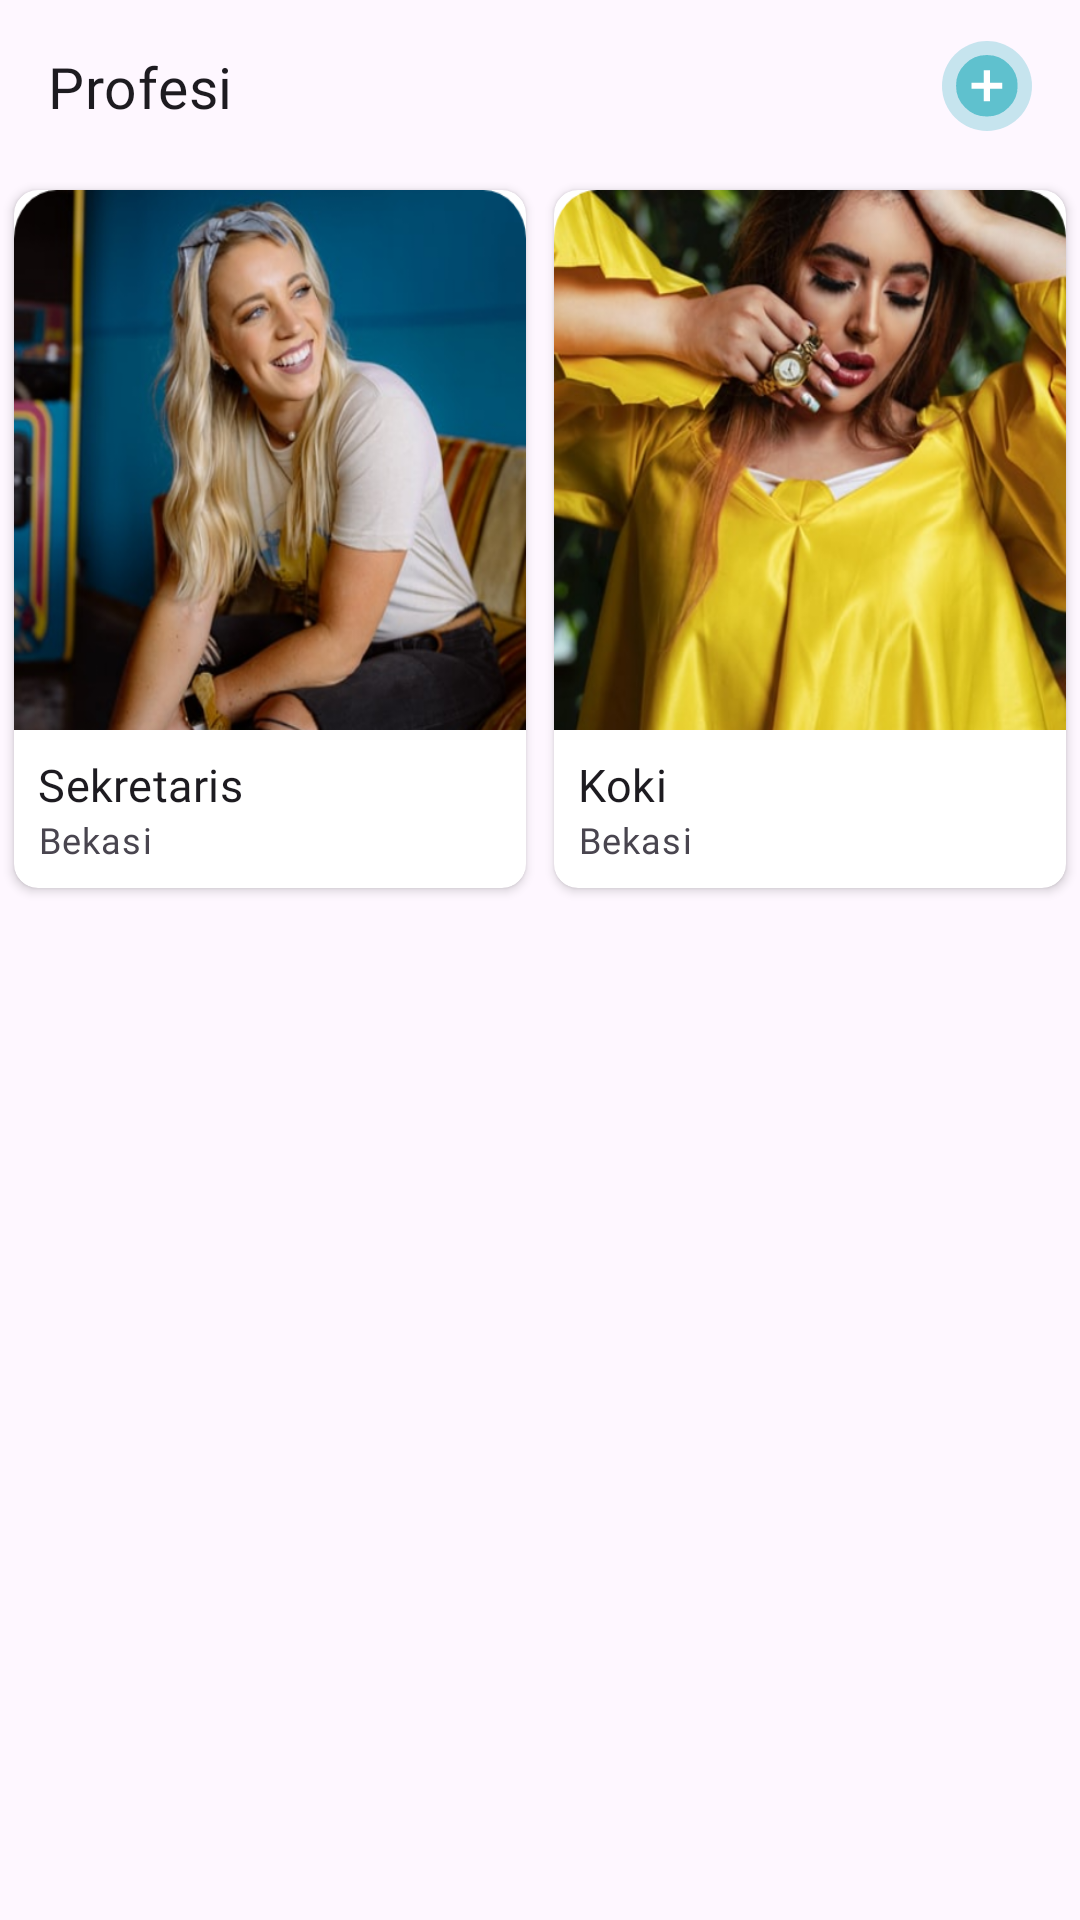

Icon bounding boxes for this 1080 x 1920 phone screenshot, format (x1, y1, x2, y2):
add product: (942, 41, 1032, 131)
